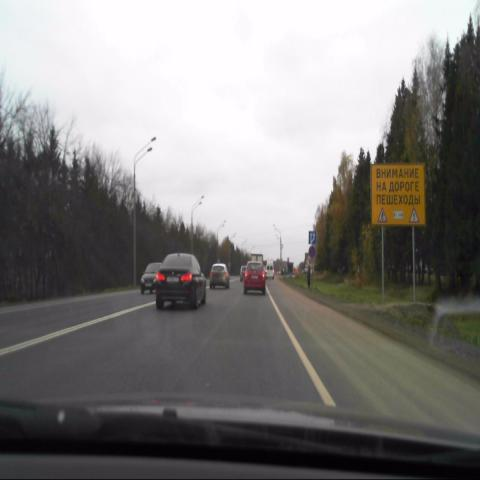1_33: (408, 206, 420, 225)
